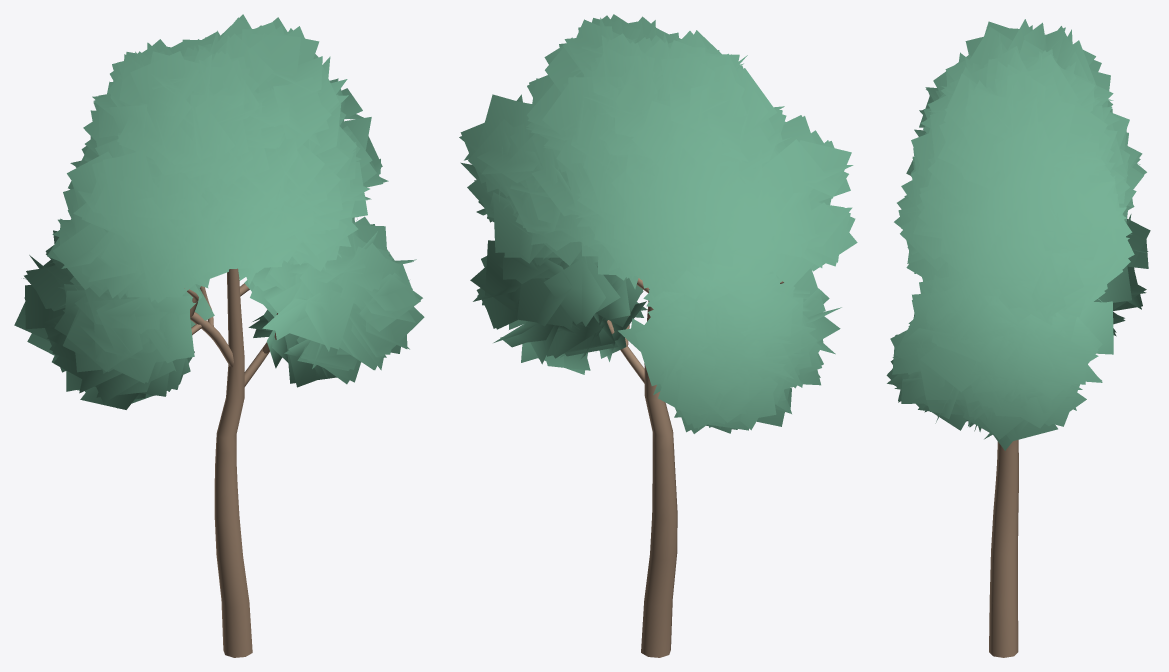
Rendered from quaternius-tree.glb.
3 renders of one model, left to right at view 1: azimuth 30°, elevation 25°; view 2: azimuth 150°, elevation 25°; view 3: azimuth 270°, elevation 25°, orthographic. The views are drawn at different scales.
Visible parts, largest first — view 1: NormalTree_1; view 2: NormalTree_1; view 3: NormalTree_1.
Boxes of the visible parts, x1,y1,x2,y2 form: NormalTree_1: (14, 14, 424, 657); NormalTree_1: (459, 14, 857, 657); NormalTree_1: (886, 19, 1150, 657).
Size of the model in its own units: 4.05 by 6.87 by 2.74.
